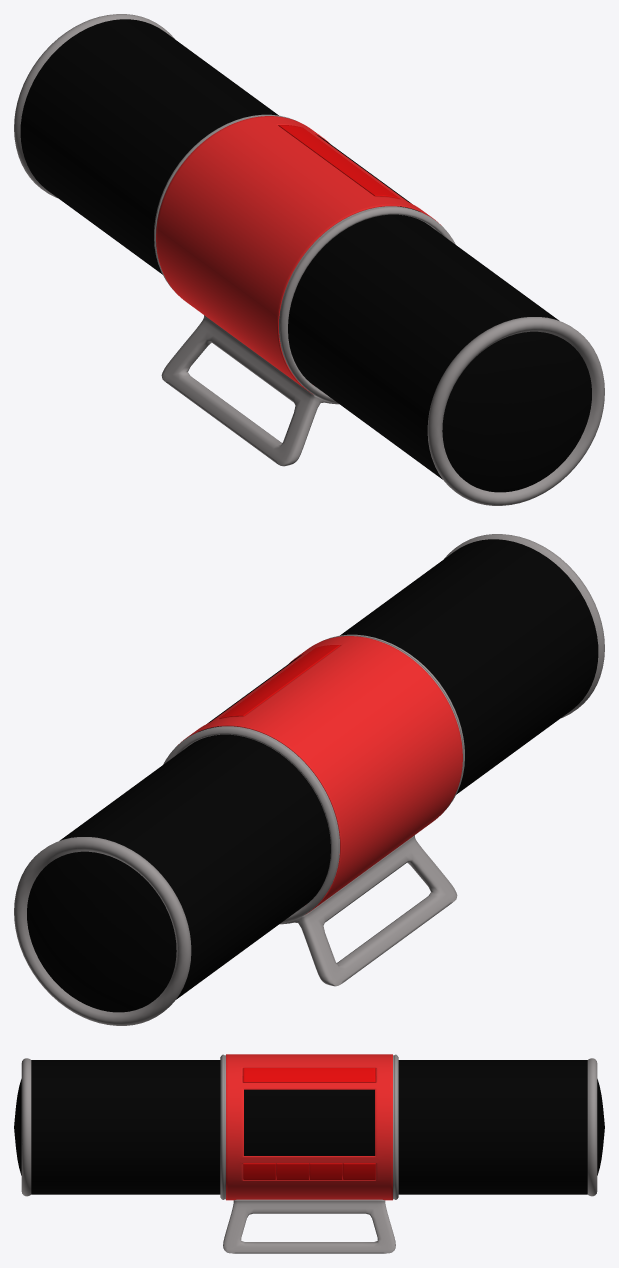
Rendered from cyra.glb.
3 renders of one model, top to bottom at view 1: azimuth 30°, elevation 25°; view 2: azimuth 150°, elevation 25°; view 3: azimuth 270°, elevation 25°, orthographic. The views are drawn at different scales.
Size of the model in its own units: 1.4 by 1.73 by 5.68.
